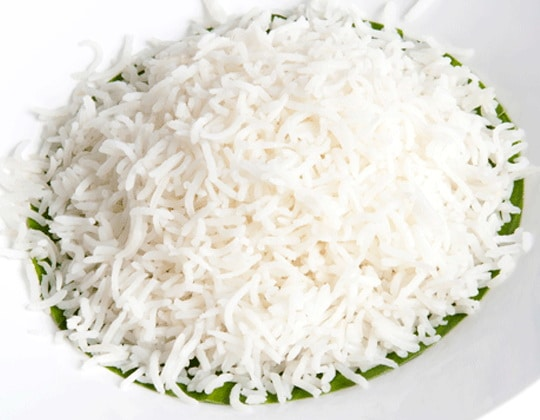plain rice: (62, 60, 494, 365)
